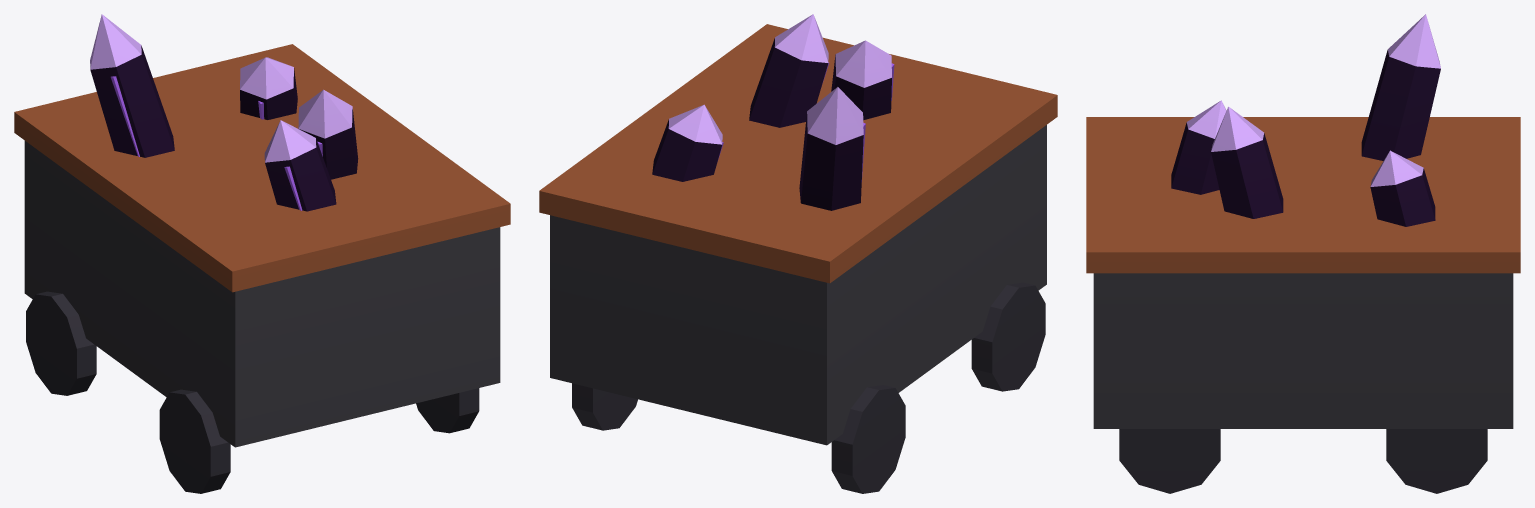
File: mine_cart.glb
The picture shows the model from 3 angles, left to right: view 1: azimuth 30°, elevation 25°; view 2: azimuth 150°, elevation 25°; view 3: azimuth 270°, elevation 25°; orthographic projection. The views are drawn at different scales.
Visible parts, largest first — view 1: mine_cart; view 2: mine_cart; view 3: mine_cart.
Boxes of the visible parts, x1,y1,x2,y2 form: mine_cart: (14,14,510,493); mine_cart: (539,14,1057,493); mine_cart: (1086,14,1520,493).
Bounding box in the file's own units: 0.855 × 1.07 × 1.14.
Materials: 3 (1 with a texture image).
